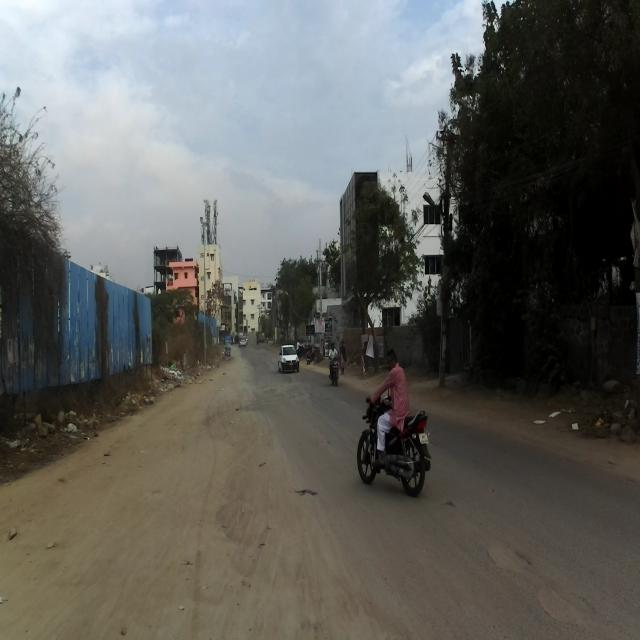motorcycle ahead at: (358, 389, 432, 494)
